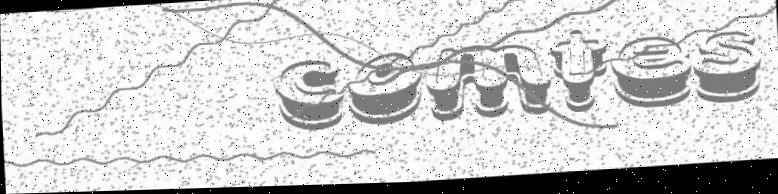c: (274, 59, 345, 136)
e: (610, 36, 692, 114)
m: (424, 43, 551, 125)
o: (345, 53, 424, 130)
s: (691, 32, 763, 109)
t: (548, 30, 610, 118)
